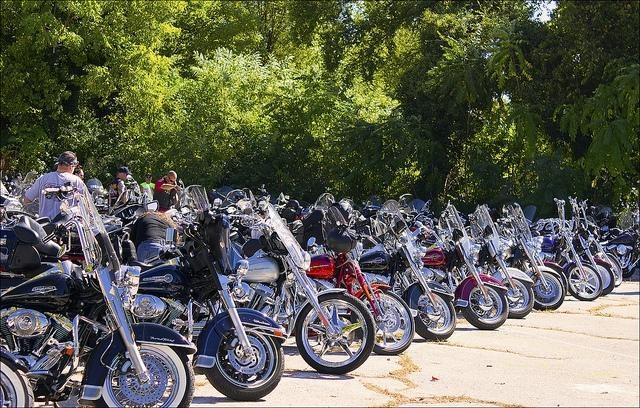motorcycle: (0, 181, 197, 404), (126, 184, 288, 402), (234, 202, 382, 375), (353, 200, 458, 341), (313, 223, 416, 353), (410, 198, 510, 330), (530, 196, 617, 293), (469, 204, 534, 318), (499, 203, 566, 311), (540, 225, 602, 302), (578, 199, 624, 287), (598, 205, 640, 279)
